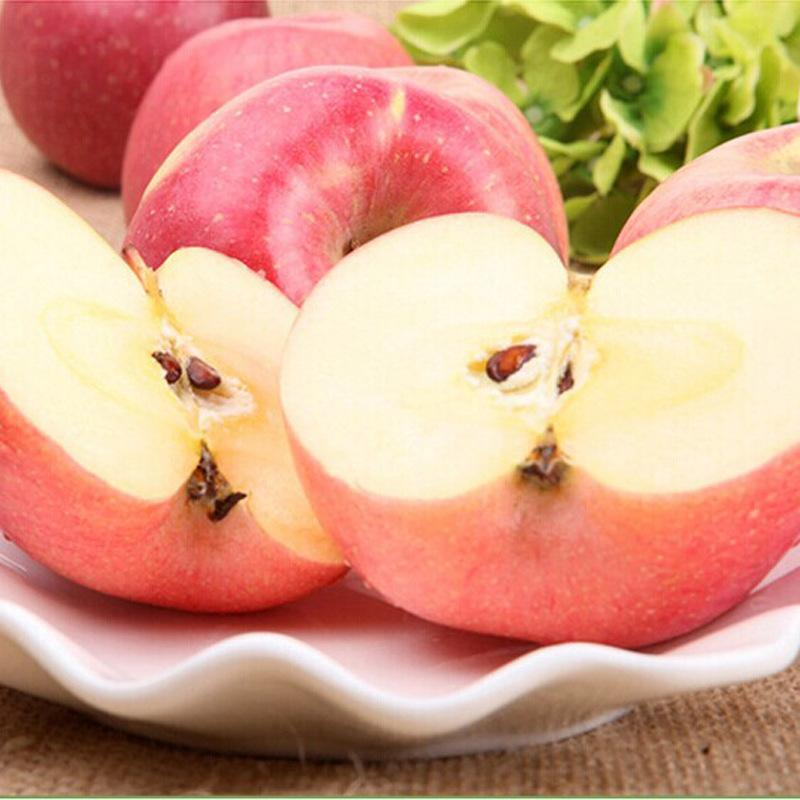apple: (136, 69, 562, 315), (1, 1, 334, 181), (118, 16, 409, 219)
